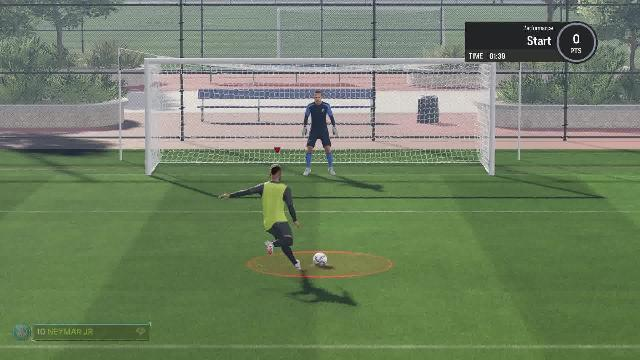circle: (266, 250, 396, 280)
football: (312, 252, 328, 266)
goal-bottom-left: (150, 120, 262, 178)
goal-bottom-right: (374, 120, 488, 174)
goal-middle-down: (261, 121, 371, 176)
goal-middle-up: (264, 62, 374, 120)
goal-top-left: (152, 66, 262, 121)
goal-top-right: (375, 63, 487, 119)
goalkeeper: (298, 87, 344, 176)
player: (232, 169, 300, 291)
